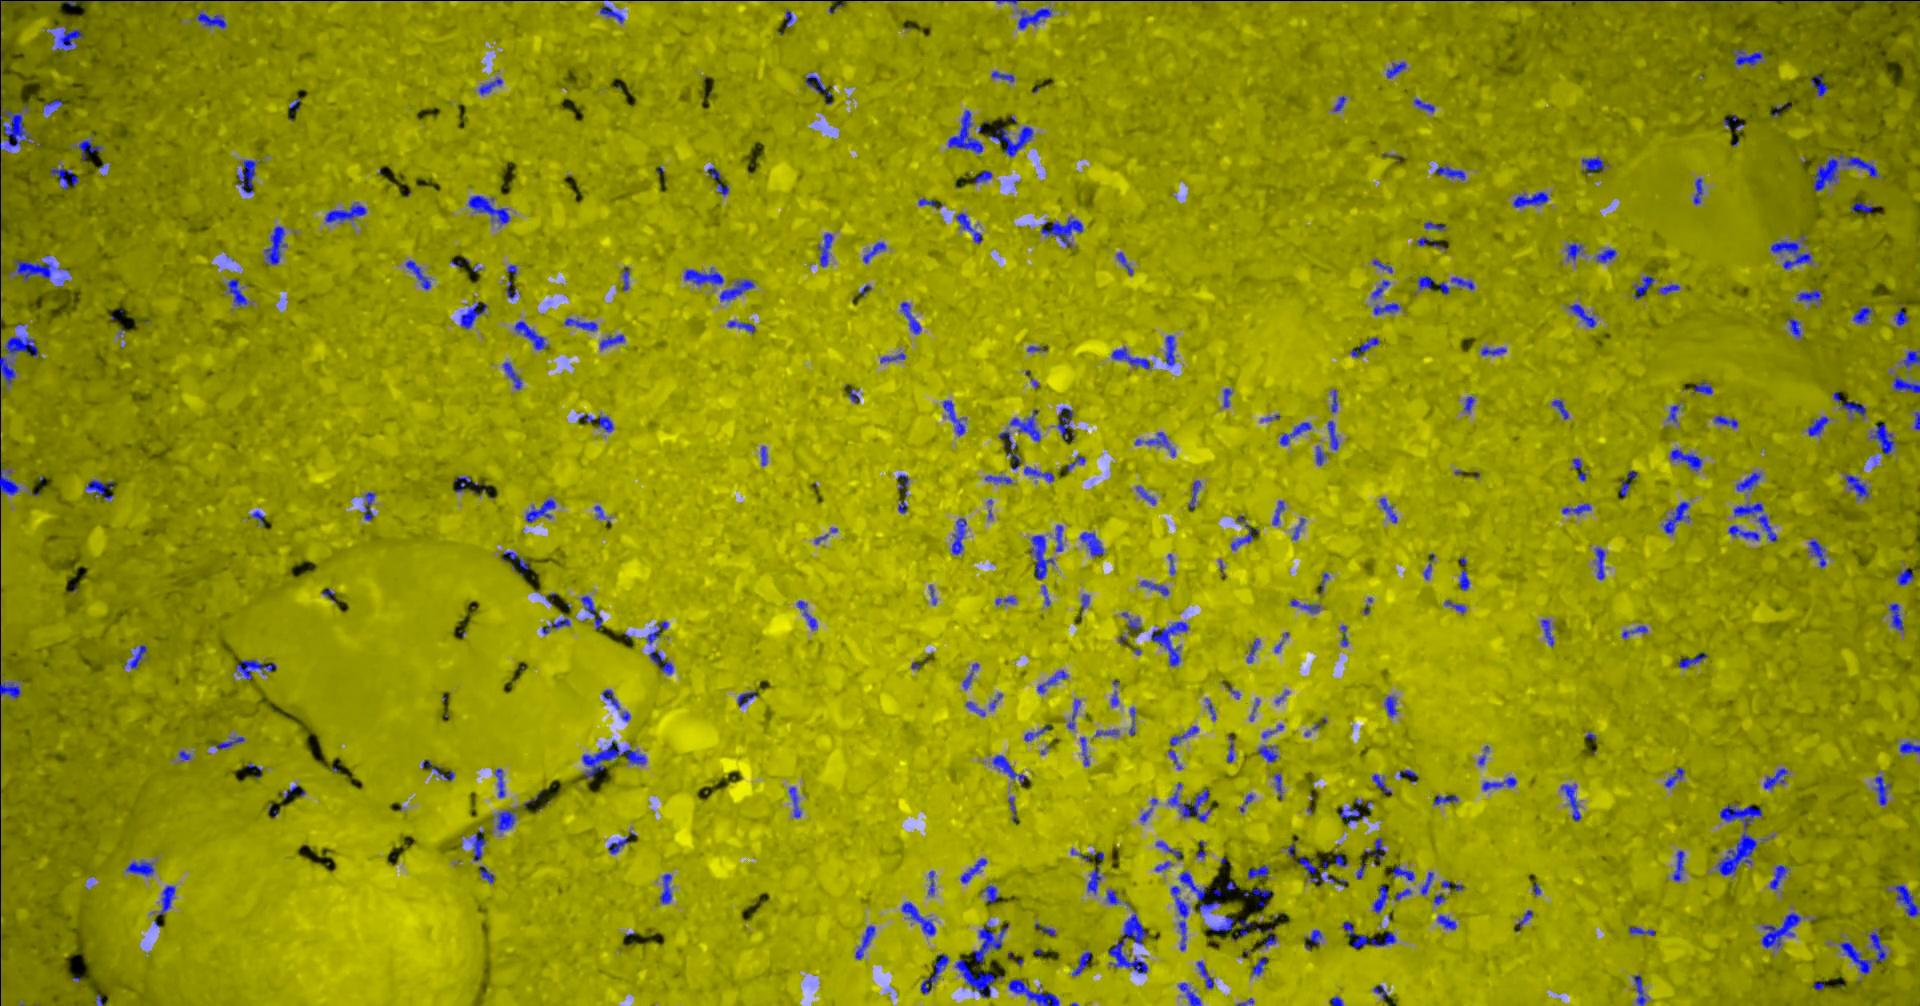ant: (1812, 152, 1879, 191), (582, 739, 645, 779), (0, 102, 32, 177), (1107, 913, 1147, 973), (1839, 931, 1886, 974), (954, 958, 1003, 997), (1178, 870, 1222, 912), (0, 337, 38, 384), (1167, 782, 1211, 822), (1293, 855, 1347, 887), (1733, 502, 1777, 541), (1150, 621, 1189, 666), (1770, 232, 1812, 269), (1342, 920, 1396, 948), (947, 109, 982, 152), (971, 923, 1008, 962), (1761, 912, 1801, 948), (988, 126, 1032, 156), (1008, 978, 1059, 1005), (1040, 216, 1082, 246), (1170, 885, 1189, 950), (13, 259, 69, 281), (467, 196, 509, 224), (919, 954, 949, 993), (902, 901, 935, 935), (992, 754, 1029, 785), (1029, 535, 1053, 579), (1134, 431, 1175, 456), (1887, 884, 1919, 916), (514, 320, 549, 349), (1010, 409, 1040, 441), (324, 201, 366, 224), (1832, 391, 1865, 419), (1662, 500, 1689, 535), (263, 225, 286, 264), (1111, 347, 1150, 370), (805, 71, 832, 103), (235, 659, 276, 680), (998, 431, 1020, 469), (955, 212, 982, 243), (942, 400, 965, 434), (1338, 798, 1366, 826), (1869, 423, 1895, 453), (719, 279, 754, 301), (1036, 669, 1068, 694), (683, 265, 723, 285), (1559, 784, 1580, 821), (405, 260, 430, 290), (1017, 8, 1051, 29), (237, 159, 259, 193), (580, 594, 602, 629), (524, 498, 555, 522), (1279, 422, 1310, 445), (1670, 448, 1702, 471), (460, 302, 488, 328), (1843, 474, 1869, 499), (422, 760, 455, 780), (53, 27, 83, 50), (855, 925, 874, 959), (648, 649, 673, 674), (502, 551, 528, 575), (0, 0, 42, 15), (50, 166, 77, 189), (1230, 527, 1258, 550), (578, 413, 613, 431), (706, 166, 728, 196), (84, 479, 113, 500), (900, 301, 919, 334), (1079, 531, 1103, 556), (960, 857, 985, 882), (1568, 304, 1595, 326), (226, 278, 248, 306), (1350, 337, 1379, 357), (796, 600, 817, 629), (1512, 191, 1548, 207), (0, 461, 18, 494), (75, 138, 102, 160), (1170, 725, 1197, 746), (1057, 406, 1073, 441), (1417, 276, 1449, 293), (1363, 837, 1385, 861), (1177, 982, 1201, 1005), (951, 518, 966, 554), (502, 361, 521, 389), (1243, 887, 1271, 906), (645, 620, 668, 643), (124, 644, 146, 668), (157, 885, 175, 915), (196, 11, 226, 28), (817, 232, 832, 265), (469, 829, 485, 860), (1481, 776, 1516, 790), (124, 859, 152, 876), (862, 241, 885, 263), (1633, 276, 1655, 298), (1763, 767, 1787, 788), (1735, 473, 1760, 492), (1727, 525, 1759, 540), (1769, 864, 1788, 889), (1892, 375, 1919, 392), (1732, 50, 1763, 65), (1874, 775, 1890, 805), (1230, 920, 1253, 940), (564, 318, 597, 332), (1808, 539, 1825, 567), (599, 4, 623, 23), (1070, 951, 1090, 976), (1619, 470, 1637, 495), (1378, 497, 1396, 522), (1156, 840, 1181, 857), (1023, 466, 1053, 481), (1371, 885, 1388, 912), (1196, 962, 1213, 988), (1435, 166, 1465, 180), (1139, 580, 1170, 594), (541, 619, 569, 634), (1677, 652, 1705, 667), (1632, 974, 1646, 1005), (1208, 915, 1233, 931), (1807, 417, 1829, 436), (497, 809, 516, 831), (1290, 598, 1319, 612), (215, 735, 244, 749), (1888, 603, 1903, 630), (963, 662, 978, 688), (1023, 725, 1050, 741), (477, 77, 502, 94), (1115, 251, 1131, 276), (1810, 75, 1829, 95), (1135, 485, 1156, 504), (1067, 699, 1079, 729), (1663, 767, 1683, 788), (1087, 864, 1100, 894), (1722, 113, 1743, 131), (1581, 156, 1603, 174), (1458, 556, 1469, 589), (599, 334, 623, 349), (1390, 865, 1415, 880), (1371, 774, 1390, 793), (1672, 850, 1684, 882), (1550, 399, 1568, 419), (0, 681, 20, 699), (1258, 927, 1276, 948), (607, 837, 629, 854), (1796, 288, 1821, 302), (1561, 503, 1591, 514), (789, 786, 800, 817), (659, 873, 670, 903), (1371, 279, 1389, 298), (1450, 276, 1474, 290), (1385, 61, 1406, 77), (1851, 306, 1872, 323), (602, 688, 618, 709), (1257, 746, 1277, 762), (1304, 929, 1321, 949), (726, 320, 756, 332), (1189, 480, 1200, 509), (1247, 864, 1269, 879), (1164, 334, 1175, 366), (1594, 547, 1604, 579), (1622, 625, 1647, 638), (1246, 638, 1258, 663), (1327, 420, 1338, 448), (1572, 459, 1586, 481), (363, 492, 375, 520), (1443, 600, 1465, 614), (1542, 619, 1553, 647), (1065, 455, 1084, 471), (1896, 567, 1912, 586), (1251, 956, 1267, 976), (965, 701, 985, 716), (1079, 735, 1090, 766), (1271, 500, 1284, 525), (1420, 871, 1432, 895), (1850, 201, 1877, 212), (1373, 302, 1399, 314), (1595, 248, 1617, 262), (1564, 243, 1582, 259), (1902, 349, 1919, 367), (990, 70, 1013, 83), (737, 691, 756, 706), (1413, 98, 1434, 112), (494, 768, 504, 796), (1713, 415, 1737, 427), (1291, 517, 1304, 539), (1384, 695, 1397, 716), (1034, 923, 1055, 936), (982, 885, 997, 903), (505, 279, 519, 298), (1787, 318, 1801, 337), (1398, 768, 1417, 782), (1437, 915, 1457, 929), (897, 474, 908, 497), (1440, 879, 1463, 890), (1371, 259, 1392, 272), (1895, 306, 1907, 326), (880, 352, 905, 362), (1898, 741, 1919, 753), (455, 476, 471, 492), (1693, 177, 1702, 205), (918, 197, 942, 207), (1432, 794, 1457, 804), (1693, 381, 1712, 394), (984, 474, 1011, 483), (1628, 926, 1655, 935), (42, 99, 62, 111), (479, 865, 493, 882), (1666, 404, 1679, 422), (1128, 619, 1140, 636), (1274, 774, 1283, 799), (1128, 706, 1135, 735), (57, 0, 91, 6), (1481, 345, 1505, 354), (1225, 734, 1233, 762), (974, 170, 990, 183), (1333, 95, 1346, 111), (927, 870, 935, 895), (1106, 889, 1119, 904), (1423, 221, 1445, 230), (1657, 285, 1679, 293), (1316, 445, 1324, 465), (847, 387, 858, 403), (1330, 389, 1337, 412), (1055, 525, 1062, 551), (996, 596, 1015, 605), (1463, 396, 1473, 412), (759, 445, 767, 465), (622, 265, 629, 290), (1095, 729, 1119, 735), (1223, 387, 1230, 406), (1773, 0, 1823, 1)
